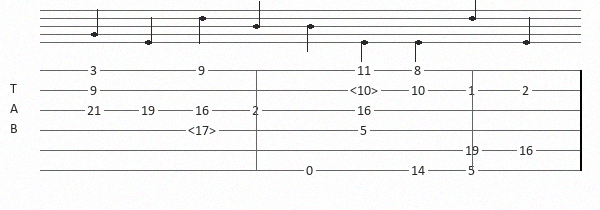0: (306, 164, 317, 177)
1: (468, 84, 479, 97)
10: (411, 84, 429, 97)
11: (357, 64, 375, 77)
14: (411, 164, 429, 177)
16: (195, 104, 213, 117), (357, 104, 375, 117), (519, 144, 537, 157)
19: (141, 104, 159, 117), (465, 144, 483, 157)
2: (252, 104, 263, 117), (522, 84, 533, 97)
21: (87, 104, 105, 117)
3: (90, 64, 101, 77)
5: (360, 124, 371, 137), (468, 164, 479, 177)
8: (414, 64, 425, 77)
9: (90, 84, 101, 97), (198, 64, 209, 77)
harmonic: (188, 124, 220, 137), (350, 84, 382, 97)
